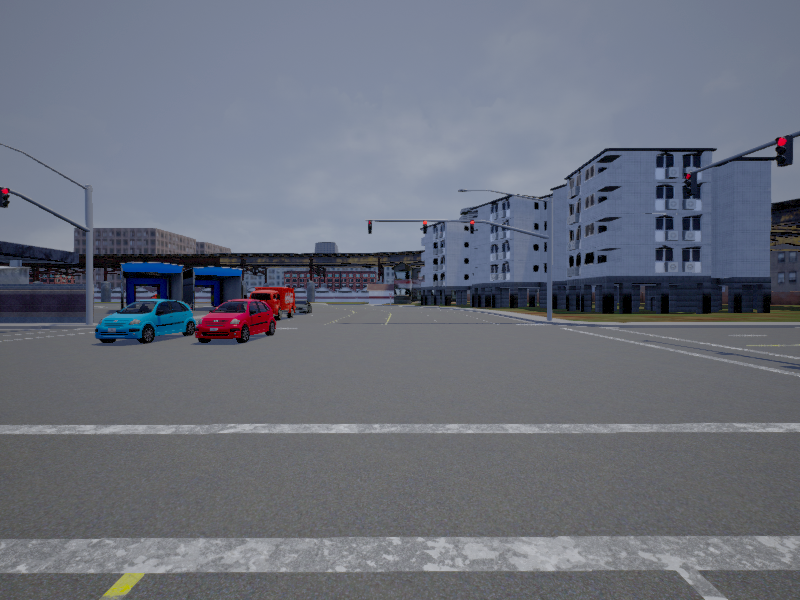Benign: (100, 303, 195, 342), (200, 297, 274, 344), (250, 287, 295, 320)
